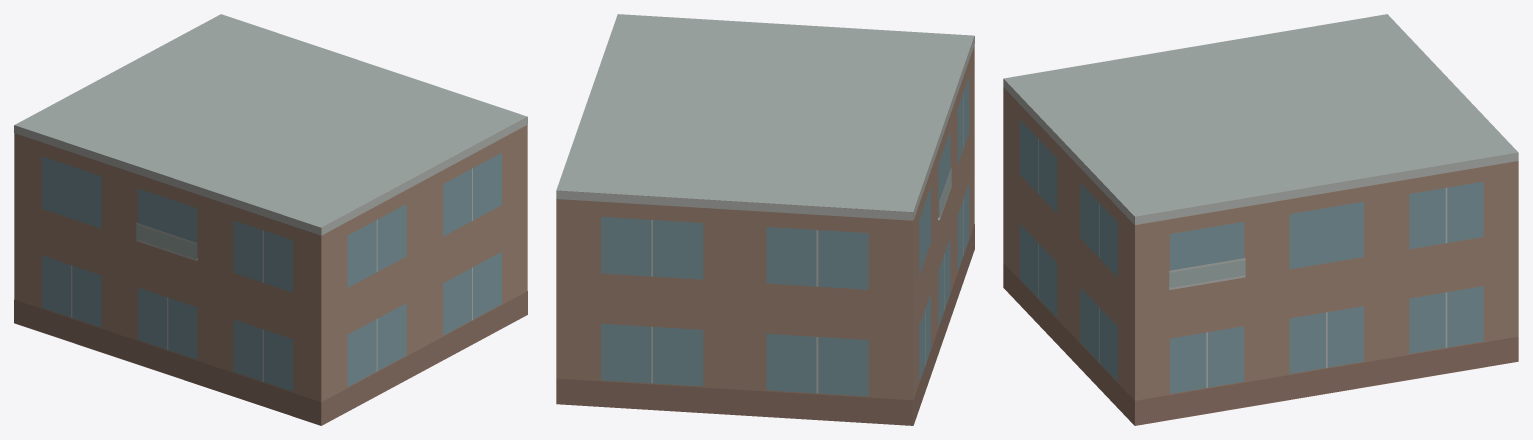
Rendered from survey-upis-32915241.glb.
3 renders of one model, left to right at view 1: azimuth 30°, elevation 25°; view 2: azimuth 150°, elevation 25°; view 3: azimuth 270°, elevation 25°, orthographic. The views are drawn at different scales.
Parts seen in each view (by area): view 1: survey-upis-32915241.tmp; view 2: survey-upis-32915241.tmp; view 3: survey-upis-32915241.tmp.
Boxes of the visible parts, x1=… form: survey-upis-32915241.tmp: x1=14, y1=14, x2=527, y2=425; survey-upis-32915241.tmp: x1=556, y1=14, x2=974, y2=425; survey-upis-32915241.tmp: x1=1003, y1=14, x2=1518, y2=425.
Bounding box in the file's own units: 12.7 × 6.1 × 13.64.
